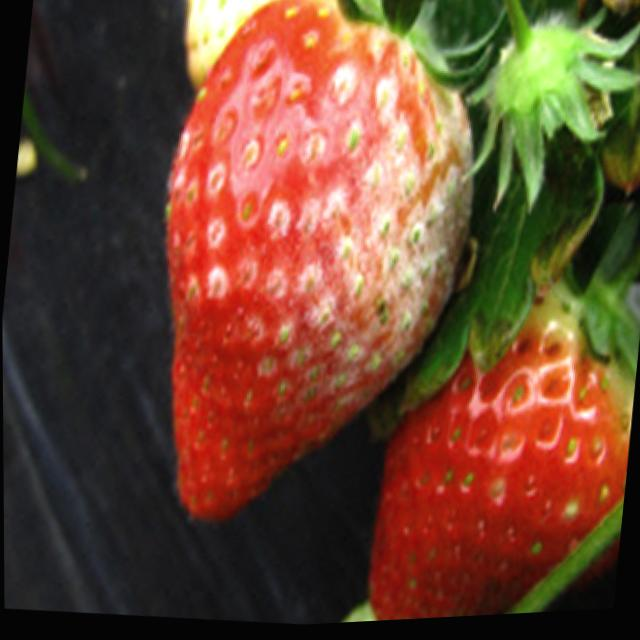Powdery Mildew Fruit: (165, 0, 474, 423)
